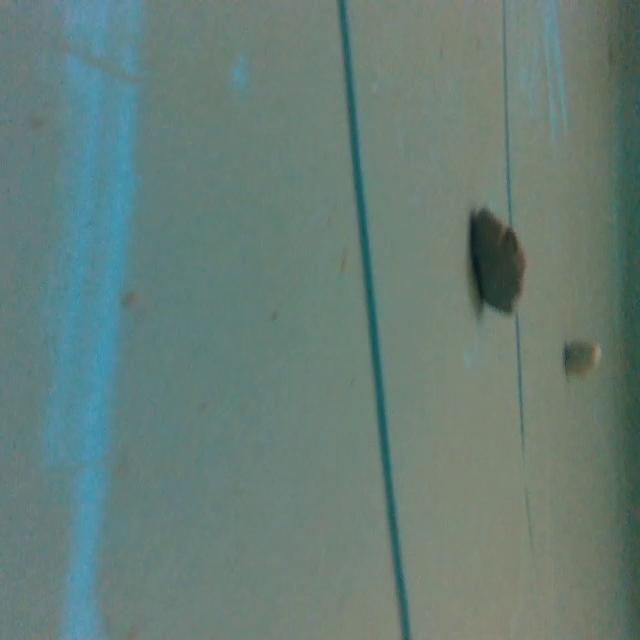rock: (465, 204, 533, 322), (564, 341, 606, 375)
